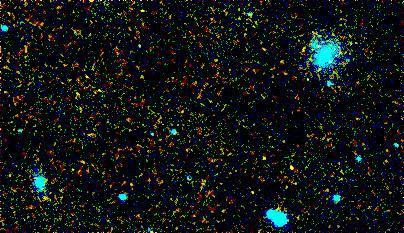star: (276, 151, 306, 181)
